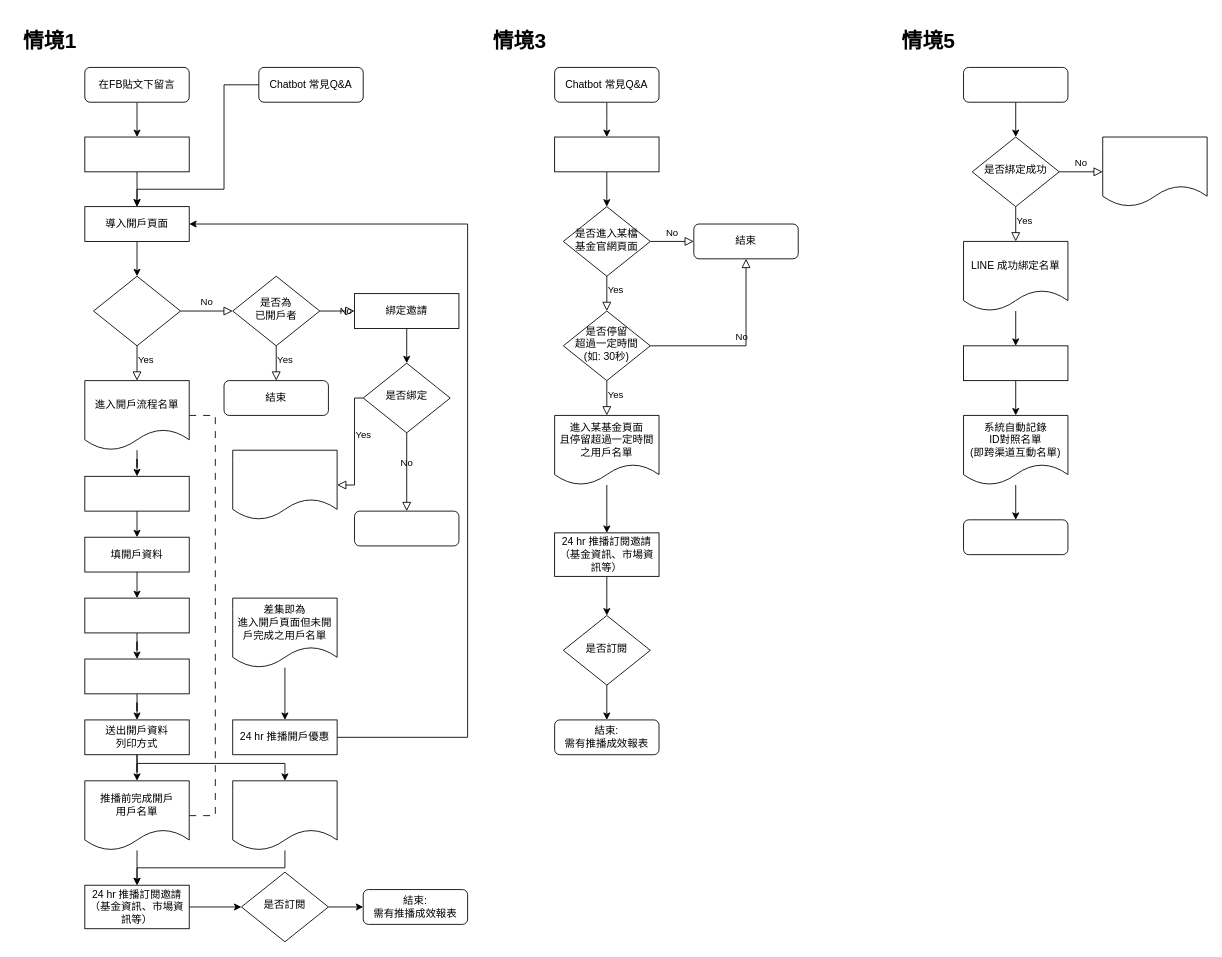
The diagram is 1222 pixels wide and 957 high, and some of its shapes have lost their labels. The shapes that lost their labels are listed below. From the top down, each one's centre as x and y in pixels, then its label:
the point at 1015,84: 在 LINE 進行綁定
the point at 136,154: 觸發進入Messenger
the point at 606,154: 跳出某檔基金 官網入口
the point at 1154,171: LINE 未成功 綁定名單
the point at 137,310: 是否點擊 「基金開戶」
the point at 1015,363: 開啟 FB 劇本連結
the point at 136,493: 輸入身分證字號 +行動電話進行驗證
the point at 284,484: 綁定名單
the point at 406,528: 結束: 可24hr 再做一次綁定推播
the point at 1015,537: 結束: 名單匯入CRM系統
the point at 136,615: 填風險屬性評估
the point at 136,676: 選擇開戶方式
the point at 284,815: 推播後完成開戶 用戶名單
